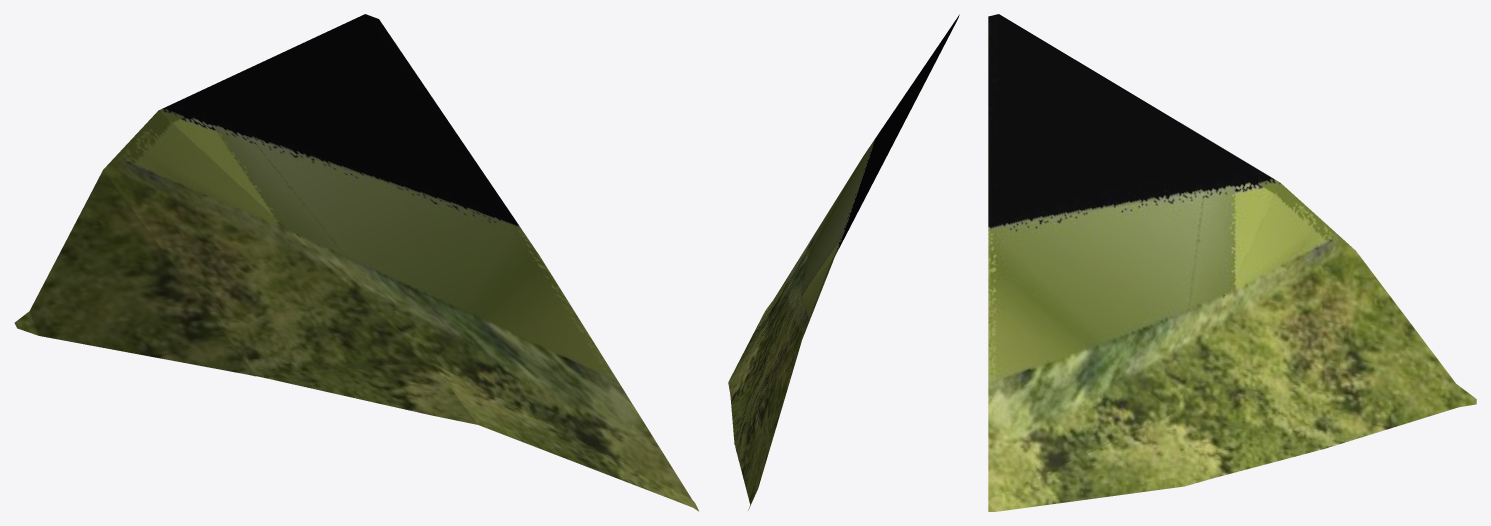
3 views of the same model, side by side, from view 1: azimuth 30°, elevation 25°; view 2: azimuth 150°, elevation 25°; view 3: azimuth 270°, elevation 25° (orthographic). The views are drawn at different scales.
Bounding box in the file's own units: 3.1 × 5.19 × 5.9.
2 materials, 2 textured.
